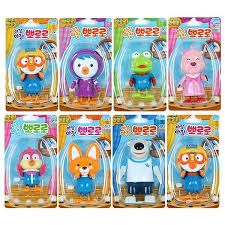Harry: (15, 146, 47, 192)
Loopy: (175, 45, 210, 103)
Petty: (69, 50, 101, 105)
Pororo: (173, 143, 209, 205), (15, 48, 49, 103)
